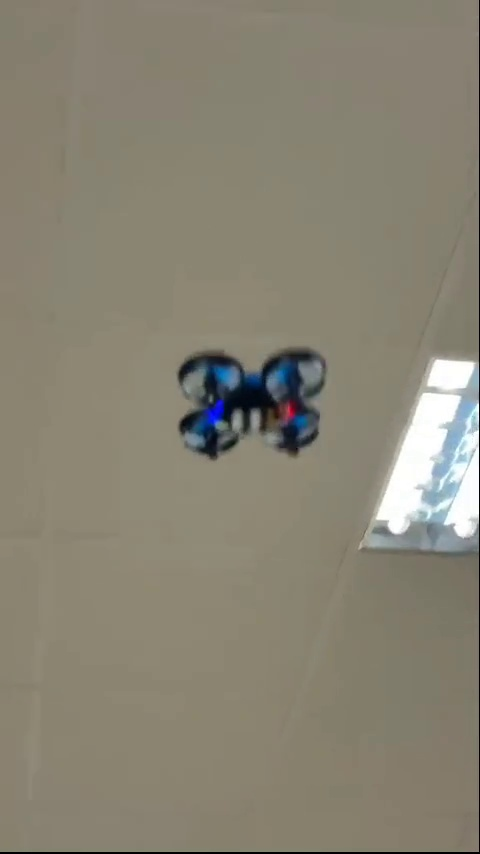drone: (176, 346, 325, 461)
